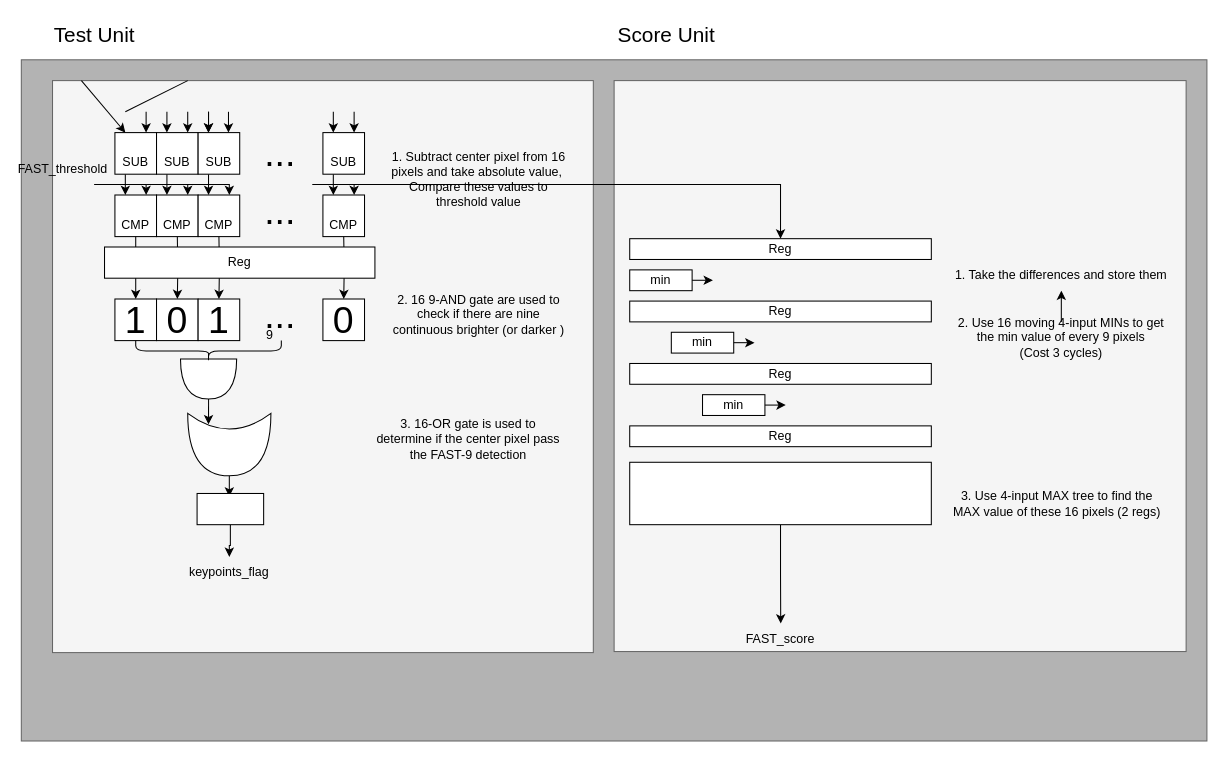
This 1225x759 diagram has some shape labels left out. The centre of each missing label's shape, as x and y in pixels:
"MAX tree" belongs at (780,493).
"Reg*5" belongs at (230,508).
